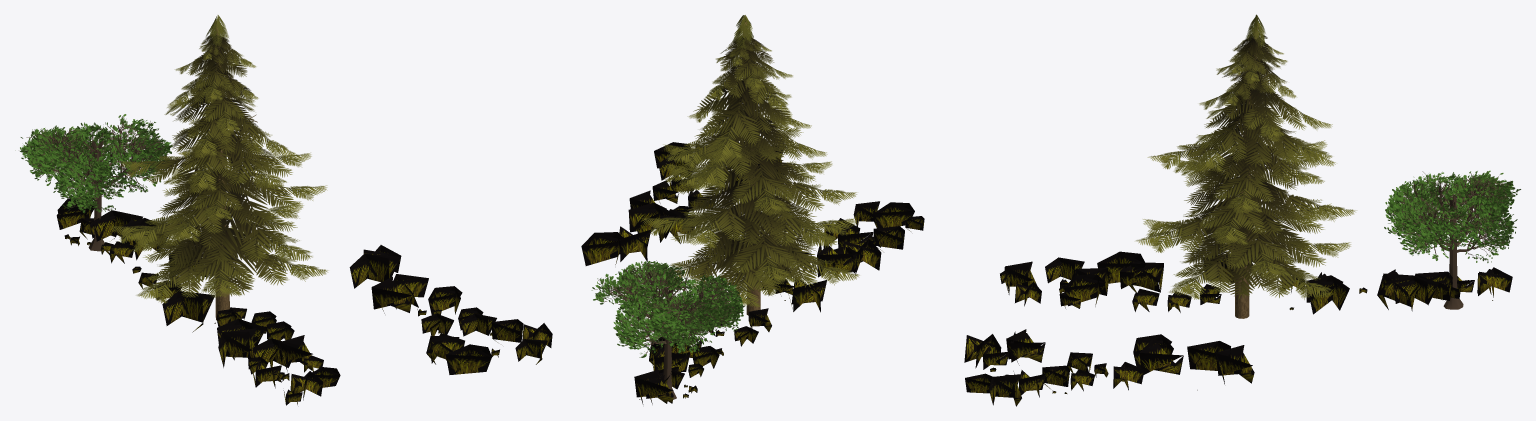
3 renders of one model, left to right at view 1: azimuth 30°, elevation 25°; view 2: azimuth 150°, elevation 25°; view 3: azimuth 270°, elevation 25°, orthographic.
Parts seen in each view (by area): view 1: Low Poly Stylized 2D Grass.1095; view 2: Low Poly Stylized 2D Grass.1095; view 3: Low Poly Stylized 2D Grass.1095.
Boxes of the visible parts, left/top/right/bottom form: Low Poly Stylized 2D Grass.1095: left=15, top=15, right=552, bottom=405; Low Poly Stylized 2D Grass.1095: left=581, top=15, right=924, bottom=404; Low Poly Stylized 2D Grass.1095: left=964, top=14, right=1520, bottom=406.
Size of the model in its own units: 15.85 by 14.74 by 25.09.
Materials: 5 (4 with a texture image).
